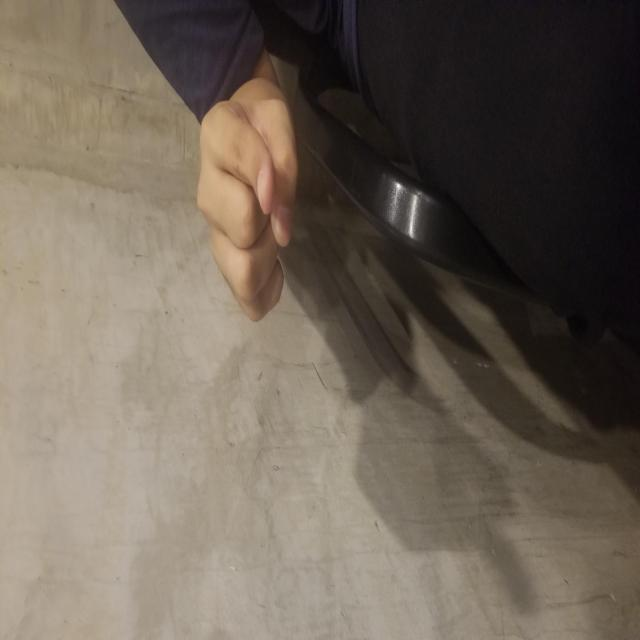Z: (312, 195, 564, 302)
